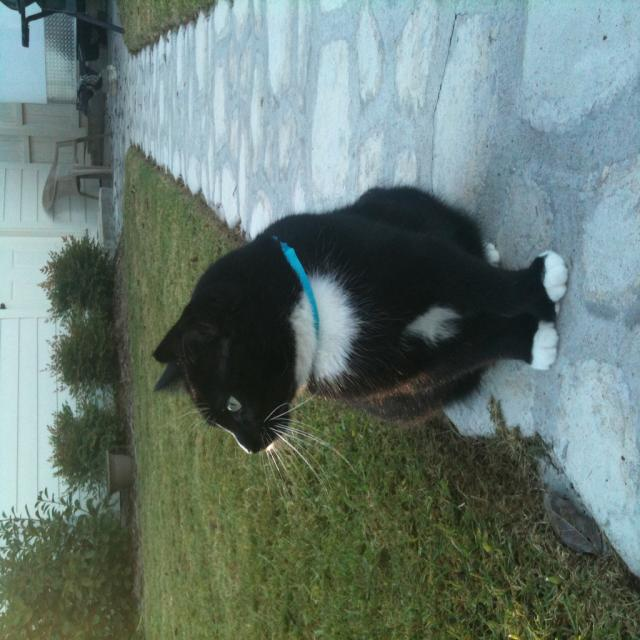Cat: (150, 178, 568, 528)
